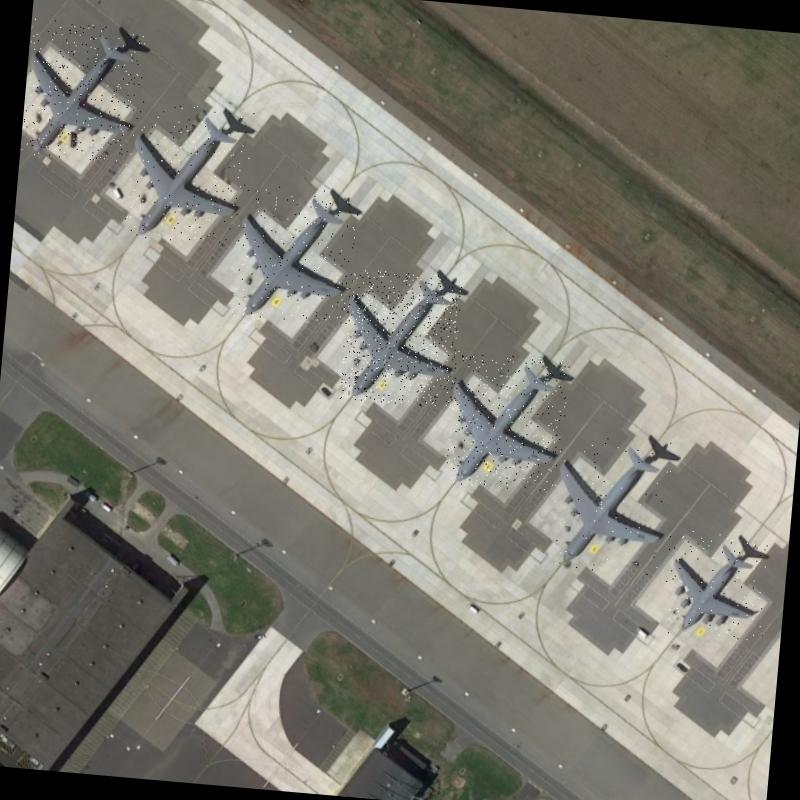A3: (662, 529, 768, 641)
A4: (120, 101, 254, 246), (549, 430, 676, 578), (232, 184, 360, 328), (444, 350, 570, 494), (21, 19, 146, 164), (339, 268, 463, 408)
